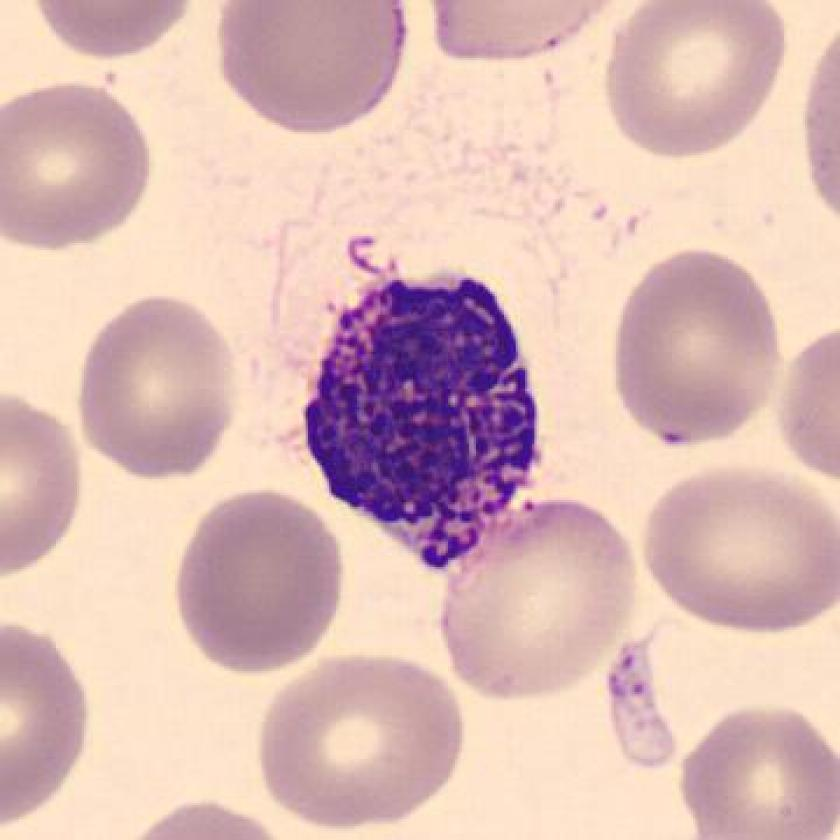basophil: (297, 256, 552, 589)
